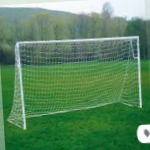goals: (6, 35, 144, 134)
